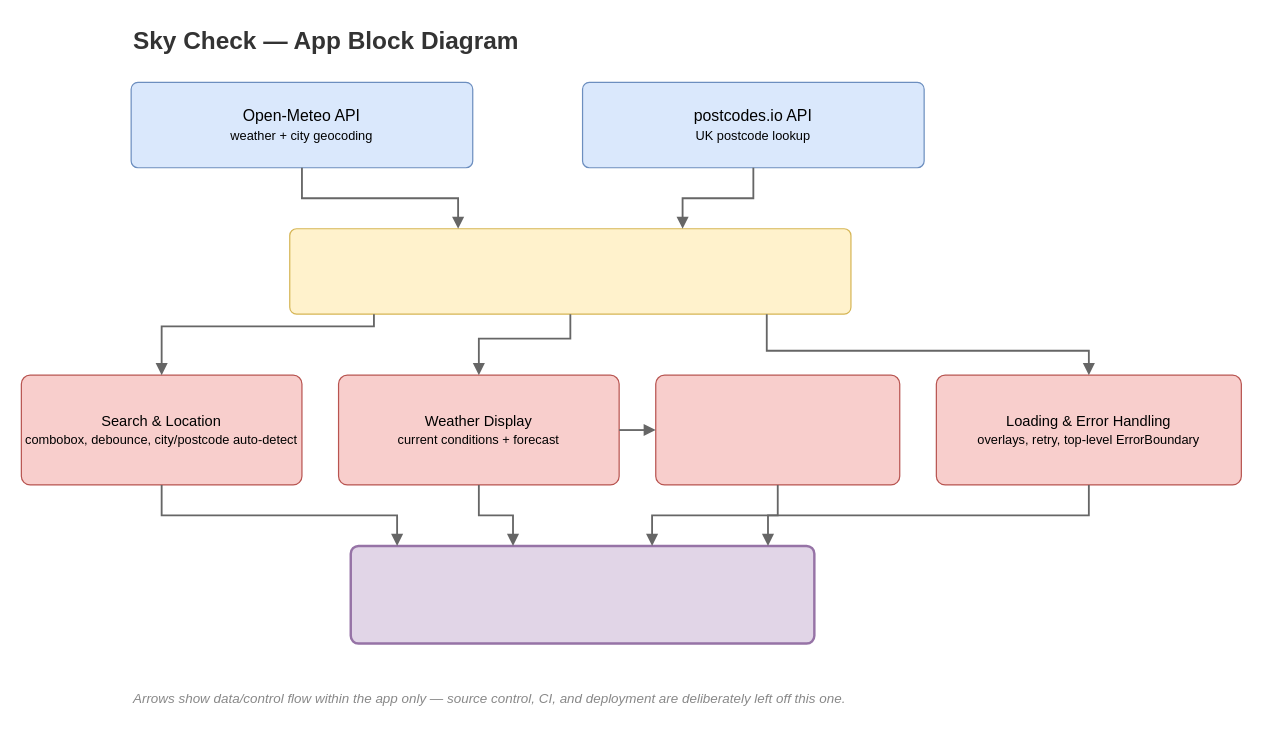
This 1263x737 diagram has some shape labels left out. The centre of each missing label's shape, as x and y in pixels:
"Data Fetching & Caching SWR — useWeather, useLocationSearch, useDebounce" belongs at pixel 570 271.
"Page Composition WeatherPage.tsx — ties it all together, focus mgmt" belongs at pixel 582 594.
"Theming background/colors by weather condition" belongs at pixel 777 429.
